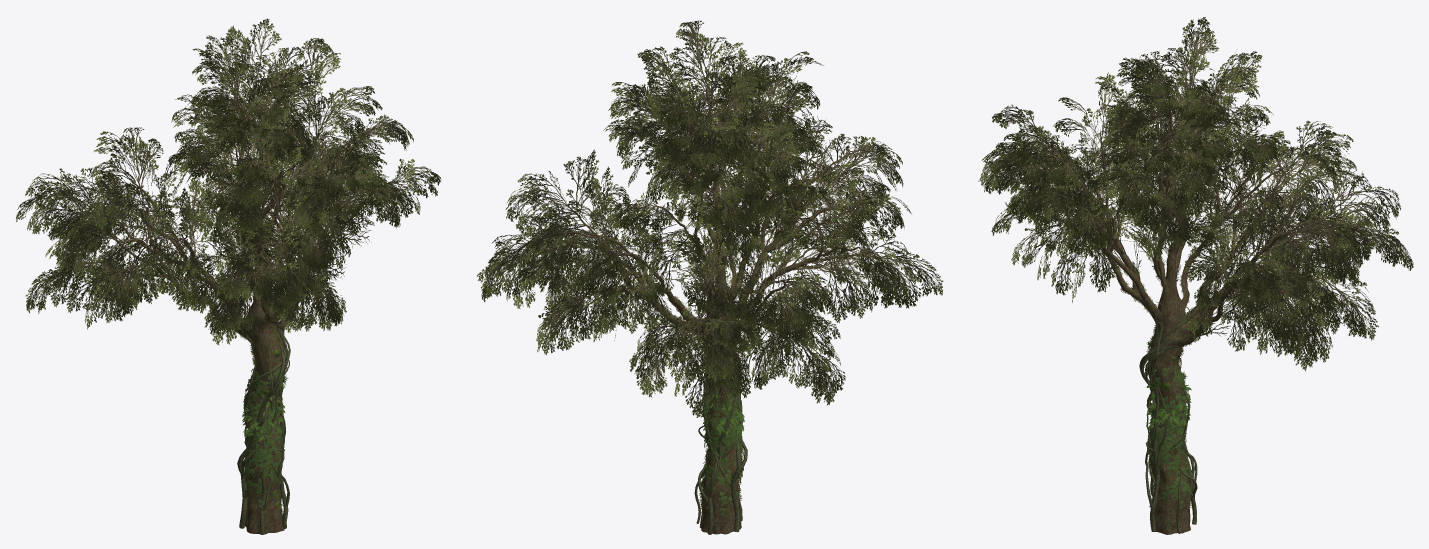
The model's file is Tree - Alien Tree 07-CuqhukJp.glb.
3 renders of one model, left to right at view 1: azimuth 30°, elevation 25°; view 2: azimuth 150°, elevation 25°; view 3: azimuth 270°, elevation 25°, orthographic.
Visible parts, largest first — view 1: Tree_07_1_Branch_L0(Clone), Tree_07_1_Trunk_L0(Clone), Tree_07_1_Plants_L0(Clone), Tree_07_1_Liana_L0(Clone); view 2: Tree_07_1_Branch_L0(Clone), Tree_07_1_Trunk_L0(Clone), Tree_07_1_Plants_L0(Clone), Tree_07_1_Liana_L0(Clone); view 3: Tree_07_1_Branch_L0(Clone), Tree_07_1_Trunk_L0(Clone), Tree_07_1_Plants_L0(Clone), Tree_07_1_Liana_L0(Clone).
Part boxes in pixels (x1=…): Tree_07_1_Branch_L0(Clone): x1=16, y1=18, x2=441, y2=345; Tree_07_1_Trunk_L0(Clone): x1=65, y1=69, x2=396, y2=534; Tree_07_1_Plants_L0(Clone): x1=207, y1=216, x2=300, y2=524; Tree_07_1_Liana_L0(Clone): x1=232, y1=306, x2=290, y2=534; Tree_07_1_Branch_L0(Clone): x1=477, y1=20, x2=943, y2=427; Tree_07_1_Trunk_L0(Clone): x1=516, y1=65, x2=899, y2=534; Tree_07_1_Plants_L0(Clone): x1=650, y1=233, x2=765, y2=521; Tree_07_1_Liana_L0(Clone): x1=694, y1=282, x2=749, y2=534; Tree_07_1_Branch_L0(Clone): x1=978, y1=17, x2=1413, y2=371; Tree_07_1_Trunk_L0(Clone): x1=1019, y1=72, x2=1375, y2=534; Tree_07_1_Plants_L0(Clone): x1=1114, y1=225, x2=1221, y2=524; Tree_07_1_Liana_L0(Clone): x1=1139, y1=300, x2=1197, y2=533.
Size of the model in its own units: 43.57 by 53.09 by 42.41.
4 materials, 4 textured.
